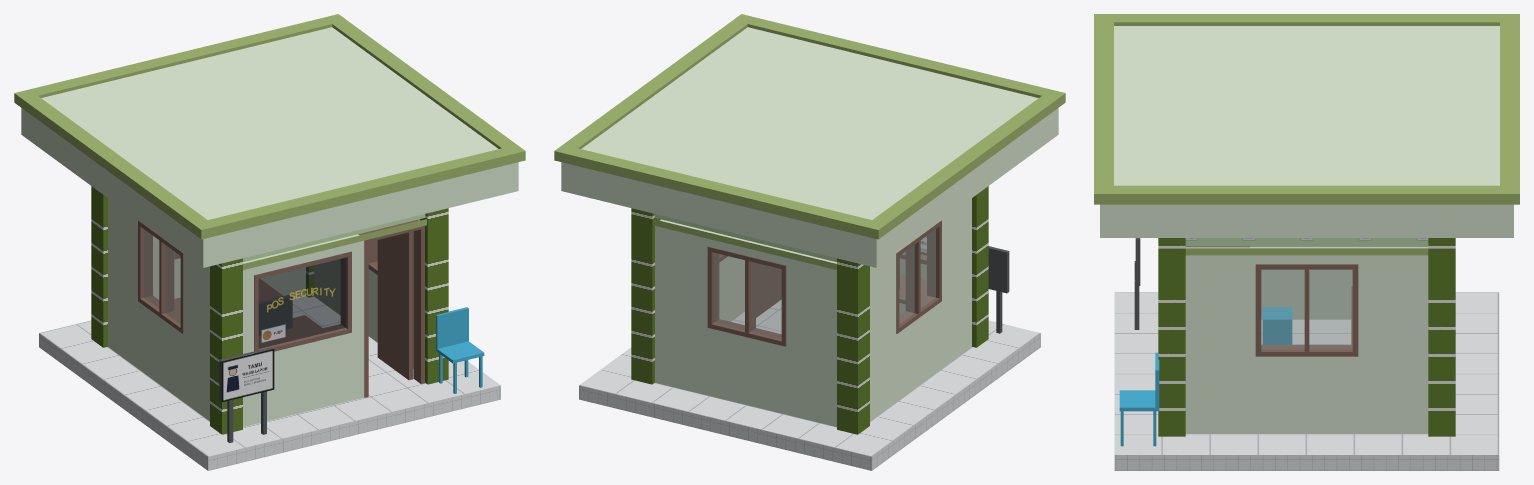
The model's file is pos_security.glb.
3 renders of one model, left to right at view 1: azimuth 30°, elevation 25°; view 2: azimuth 150°, elevation 25°; view 3: azimuth 270°, elevation 25°, orthographic. The views are drawn at different scales.
Parts seen in each view (by area): view 1: Atap_Dak_Beton_Kanopi, Dinding_Hijau_Pistachio, Lantai_Keramik_Putih, Lis_Olive_Kanopi, Kusen_Pintu_Meja_Coklat, Pilaster_Hijau_Olive, Kaca_POS_SECURITY, Kursi_Plastik_Biru, Papan_Tamu_Wajib_Lapor, Kaca_Jendela_Samping, Rangka_Besi_Dan_Monitor, Lis_Ventilasi_Boven; view 2: Atap_Dak_Beton_Kanopi, Dinding_Hijau_Pistachio, Lantai_Keramik_Putih, Lis_Olive_Kanopi, Pilaster_Hijau_Olive, Kusen_Pintu_Meja_Coklat, Kaca_Jendela_Samping, Rangka_Besi_Dan_Monitor, Lis_Ventilasi_Boven; view 3: Atap_Dak_Beton_Kanopi, Dinding_Hijau_Pistachio, Lantai_Keramik_Putih, Lis_Olive_Kanopi, Pilaster_Hijau_Olive, Kaca_Jendela_Samping, Kusen_Pintu_Meja_Coklat, Kursi_Plastik_Biru, Lis_Ventilasi_Boven, Rangka_Besi_Dan_Monitor.
Boxes of the visible parts, x1,y1,x2,y2 form: Atap_Dak_Beton_Kanopi: [21, 27, 518, 267]; Dinding_Hijau_Pistachio: [108, 198, 419, 426]; Lantai_Keramik_Putih: [39, 296, 500, 470]; Lis_Olive_Kanopi: [14, 14, 525, 269]; Kusen_Pintu_Meja_Coklat: [138, 219, 424, 397]; Pilaster_Hijau_Olive: [91, 186, 448, 434]; Kaca_POS_SECURITY: [258, 258, 345, 348]; Kursi_Plastik_Biru: [436, 307, 484, 393]; Papan_Tamu_Wajib_Lapor: [221, 349, 274, 402]; Kaca_Jendela_Samping: [144, 229, 377, 323]; Rangka_Besi_Dan_Monitor: [219, 295, 292, 442]; Lis_Ventilasi_Boven: [243, 214, 425, 262]; Atap_Dak_Beton_Kanopi: [561, 27, 1058, 267]; Dinding_Hijau_Pistachio: [655, 198, 971, 426]; Lantai_Keramik_Putih: [579, 300, 1040, 470]; Lis_Olive_Kanopi: [554, 14, 1065, 269]; Pilaster_Hijau_Olive: [631, 186, 988, 434]; Kusen_Pintu_Meja_Coklat: [707, 220, 941, 346]; Kaca_Jendela_Samping: [714, 229, 935, 338]; Rangka_Besi_Dan_Monitor: [899, 246, 1009, 333]; Lis_Ventilasi_Boven: [654, 214, 836, 262]; Atap_Dak_Beton_Kanopi: [1100, 26, 1513, 237]; Dinding_Hijau_Pistachio: [1185, 246, 1428, 433]; Lantai_Keramik_Putih: [1114, 292, 1499, 470]; Lis_Olive_Kanopi: [1094, 14, 1519, 255]; Pilaster_Hijau_Olive: [1158, 238, 1455, 436]; Kaca_Jendela_Samping: [1261, 270, 1352, 349]; Kusen_Pintu_Meja_Coklat: [1186, 246, 1358, 356]; Kursi_Plastik_Biru: [1119, 307, 1292, 446]; Lis_Ventilasi_Boven: [1185, 238, 1428, 246]; Rangka_Besi_Dan_Monitor: [1134, 238, 1140, 329].
Size of the model in its own units: 4.32 by 3.2 by 4.32.
13 materials, 5 textured.
